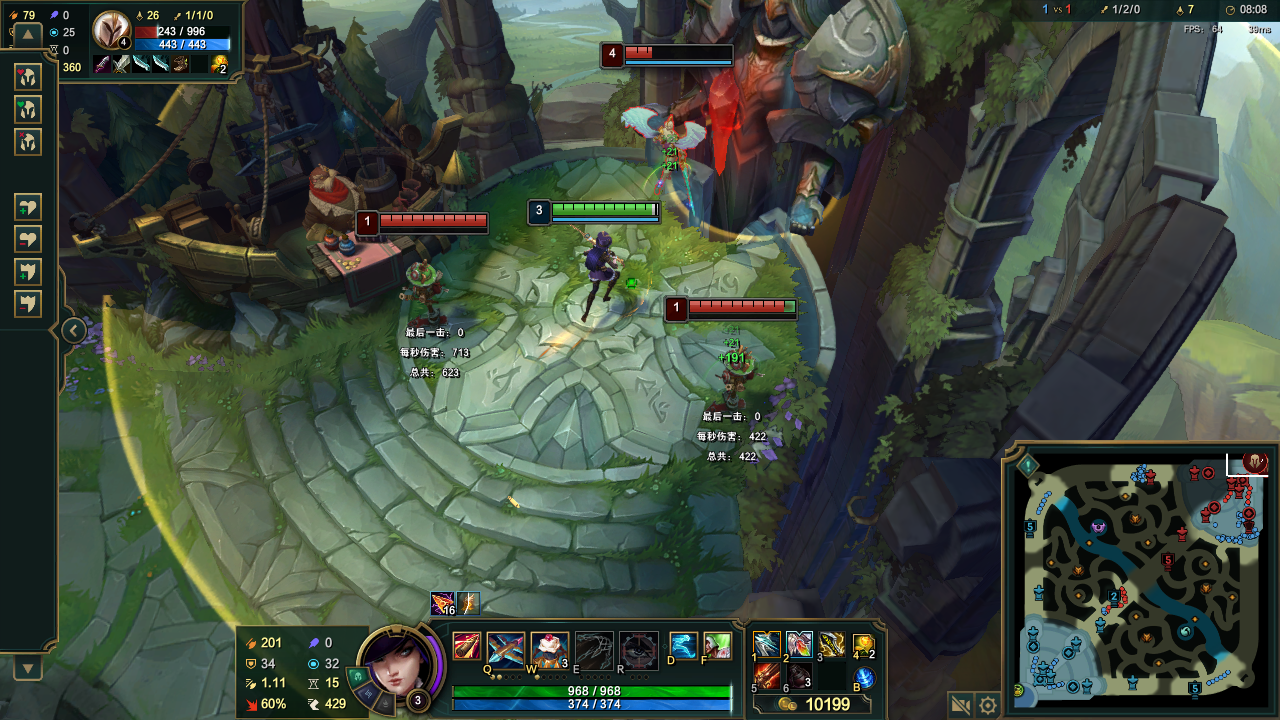DFYX: (686, 297, 798, 314), (624, 44, 733, 61), (380, 214, 490, 226)
